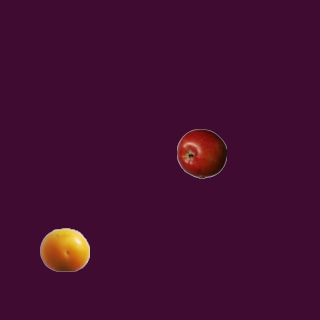Apple Braeburn: (176, 128, 226, 178)
Cherry Wax Yellow: (39, 224, 89, 274)
